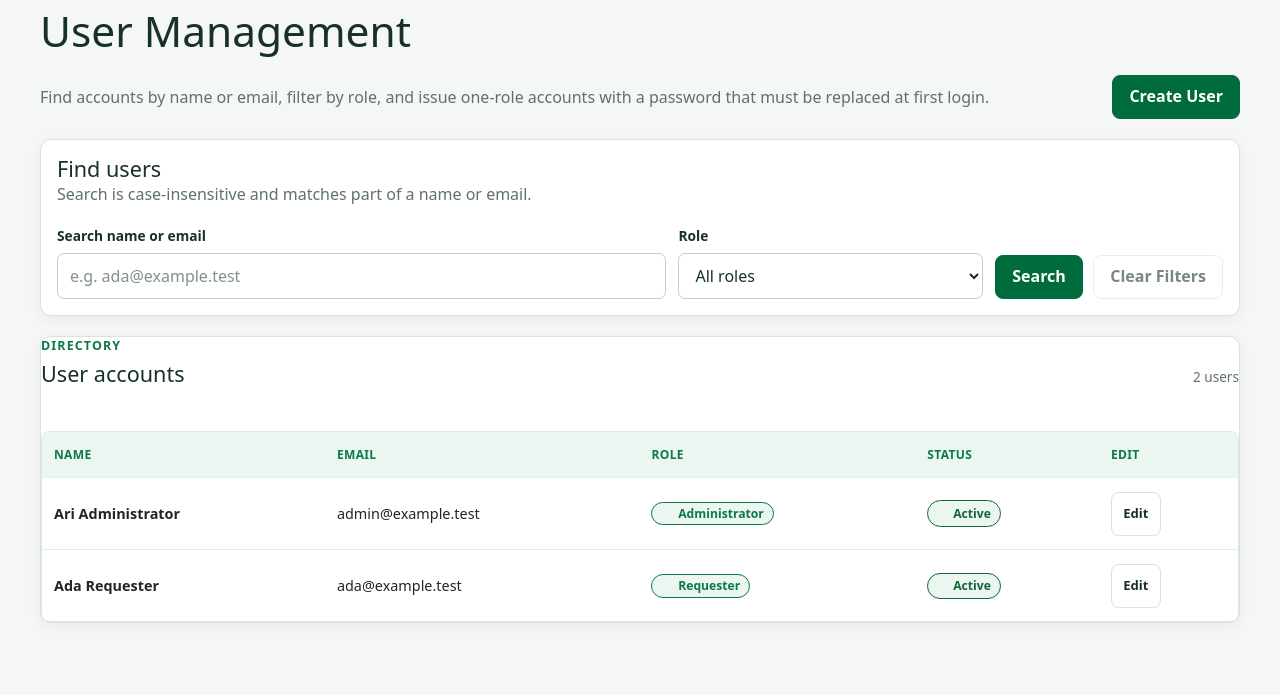
Test: Administrator user management › initializes the edit form from the fetched account detail
(page scrolled)
Click the button with aria-label "Edit Ada Requester".
click(1136, 586)  # box left=1111, top=564, right=1161, bottom=608
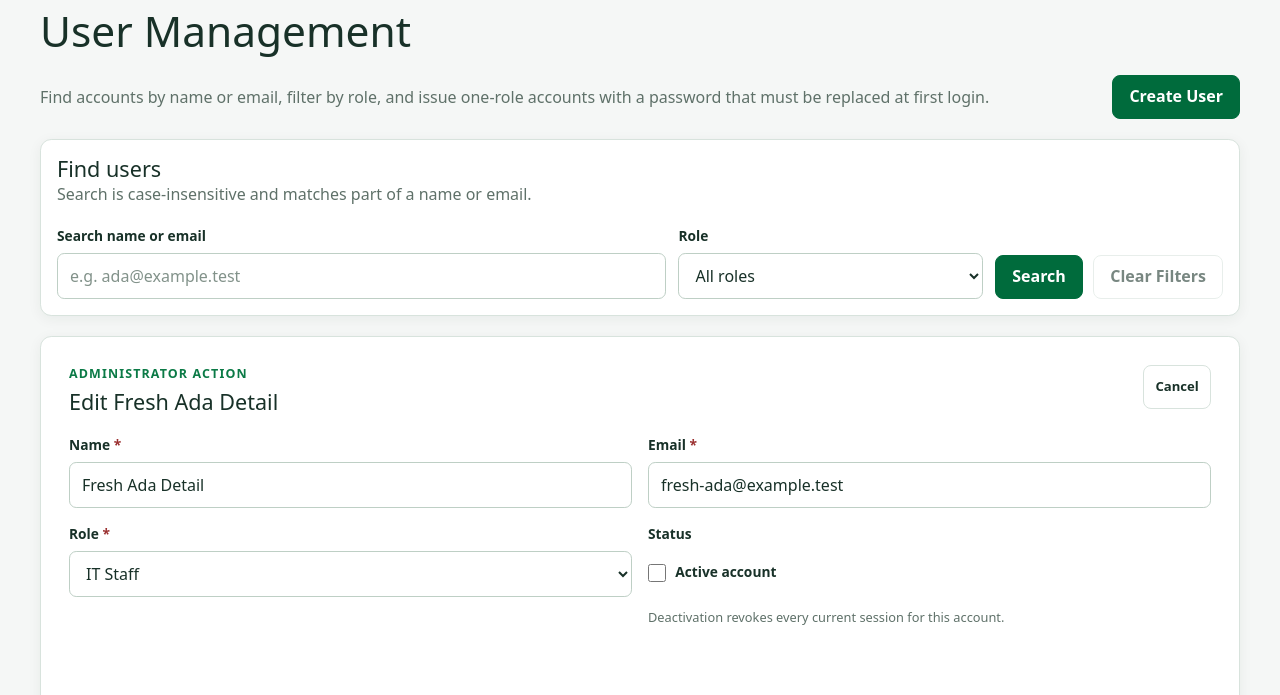
Now the field showing "Fresh Ada Detail" is shown, box left=69, top=462, right=632, bottom=508
Now the field showing "fresh-ada@example.test" is shown, box left=648, top=462, right=1211, bottom=508
Now the dropdown showing "IT Staff" is shown, box left=69, top=551, right=632, bottom=597
